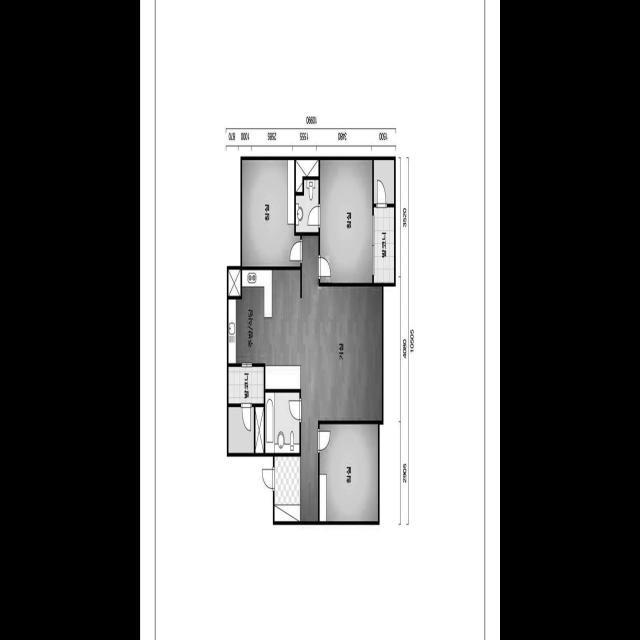background: (140, 0, 500, 640)
space_balconi: (374, 206, 394, 283), (228, 366, 264, 403)
space_bedroom: (320, 159, 372, 283), (242, 159, 301, 266), (319, 423, 378, 521)
space_front: (274, 456, 300, 521)
space_kitchen: (228, 269, 300, 389)
space_living_room: (301, 235, 382, 521)
space_other: (228, 406, 254, 453), (374, 159, 394, 203), (296, 159, 319, 192), (255, 406, 264, 453), (228, 269, 241, 296)
space_toilet: (265, 392, 300, 453), (296, 179, 319, 232)
